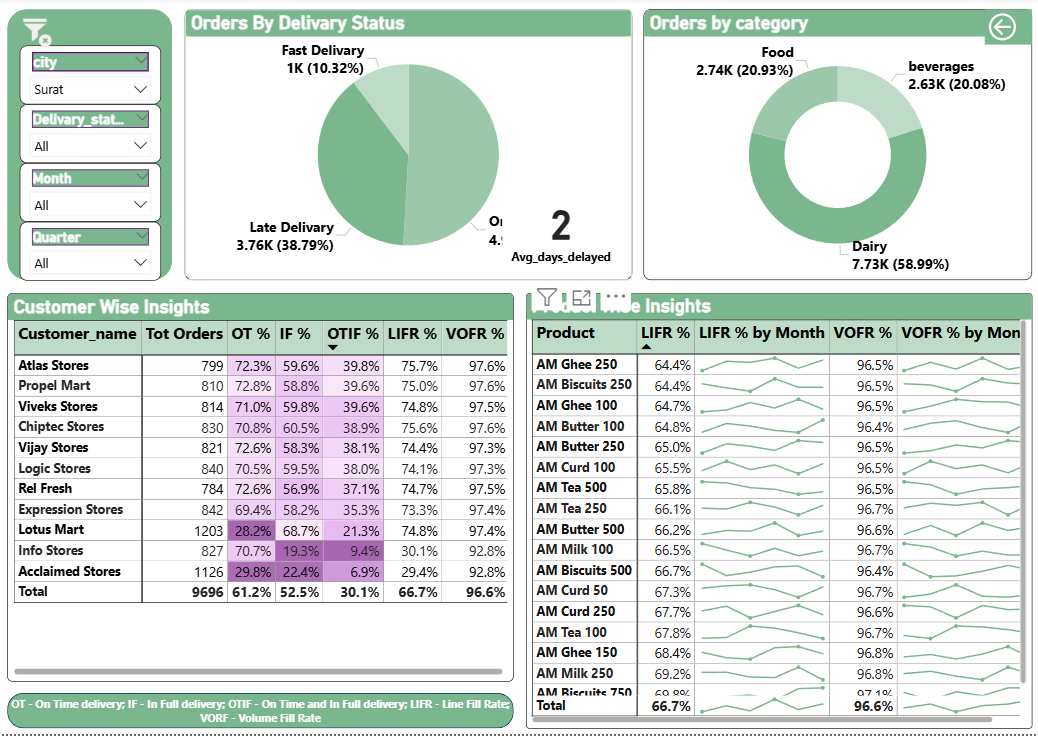

What the dashboard file says about the page in this screenshot:
{"tool":"powerbi","page":{"name":"Customer& Product Analysis","canvas":[1422,1000],"ordinal":1},"visuals":[{"type":"pivotTable","title":"Customer Wise Insights","fields":{"Rows":["dim_customers.customer_name"],"Values":["Metrices.Total Orders","Metrices.OT %","Metrices.IF %","Metrices.OTIF %","Metrices.LIFR %","Metrices.VOFR %"]},"box":[16,400,688,528],"z":0},{"type":"pivotTable","title":"Product Wise Insights","fields":{"Rows":["dim_products.product_name"],"Values":["Metrices.LIFR %","SparklineData(Metrices.LIFR %_[dim_date.date.Variation.Date Hierarchy.Month])","Metrices.VOFR %","SparklineData(Metrices.VOFR %_[dim_date.date.Variation.Date Hierarchy.Month])"]},"box":[720,400,688,592],"z":1000},{"type":"pieChart","title":"Orders By Delivary Status","fields":{"Category":["fact_order_lines.Delivary_status"],"Y":["Count(fact_order_lines.order_id)"]},"box":[256,16,608,368],"z":2000},{"type":"card","fields":{"Values":["Metrices.Avg_days_delayed"]},"box":[688,256,160,112],"z":3000},{"type":"shape","box":[16,16,224,368],"z":4000},{"type":"slicer","fields":{"Values":["dim_customers.city"]},"box":[32,64,192,80],"z":5000},{"type":"slicer","fields":{"Values":["dim_date.date.Variation.Date Hierarchy.Month"]},"box":[32,224,192,80],"z":6000},{"type":"slicer","fields":{"Values":["dim_date.date.Variation.Date Hierarchy.Quarter"]},"box":[32,304,192,80],"z":7000},{"type":"slicer","fields":{"Values":["fact_order_lines.Delivary_status"]},"box":[32,144,192,80],"z":8000},{"type":"shape","box":[16,944,688,48],"z":9000},{"type":"donutChart","title":"Orders by category","fields":{"Category":["dim_products.category"],"Y":["Count(fact_order_lines.order_id)"]},"box":[880,16,528,368],"z":10000},{"type":"actionButton","box":[1344,16,64,48],"z":11000},{"type":"image","box":[32,16,48,64],"z":12000}]}

Visuals, with their boxes in screenshot pixels (x1, y1, x2, y2), scaled from the page's 1422x1000 canvas onto the 1038x736 screenshot:
"Customer Wise Insights" pivotTable: x1=12 y1=294 x2=514 y2=683
"Product Wise Insights" pivotTable: x1=526 y1=294 x2=1028 y2=730
"Orders By Delivary Status" pieChart: x1=187 y1=12 x2=631 y2=283
card - Metrices.Avg_days_delayed: x1=502 y1=188 x2=619 y2=271
shape: x1=12 y1=12 x2=175 y2=283
slicer - dim_customers.city: x1=23 y1=47 x2=164 y2=106
slicer - dim_date.date.Variation.Date Hierarchy.Month: x1=23 y1=165 x2=164 y2=224
slicer - dim_date.date.Variation.Date Hierarchy.Quarter: x1=23 y1=224 x2=164 y2=283
slicer - fact_order_lines.Delivary_status: x1=23 y1=106 x2=164 y2=165
shape: x1=12 y1=695 x2=514 y2=730
"Orders by category" donutChart: x1=642 y1=12 x2=1028 y2=283
actionButton: x1=981 y1=12 x2=1028 y2=47
image: x1=23 y1=12 x2=58 y2=59
